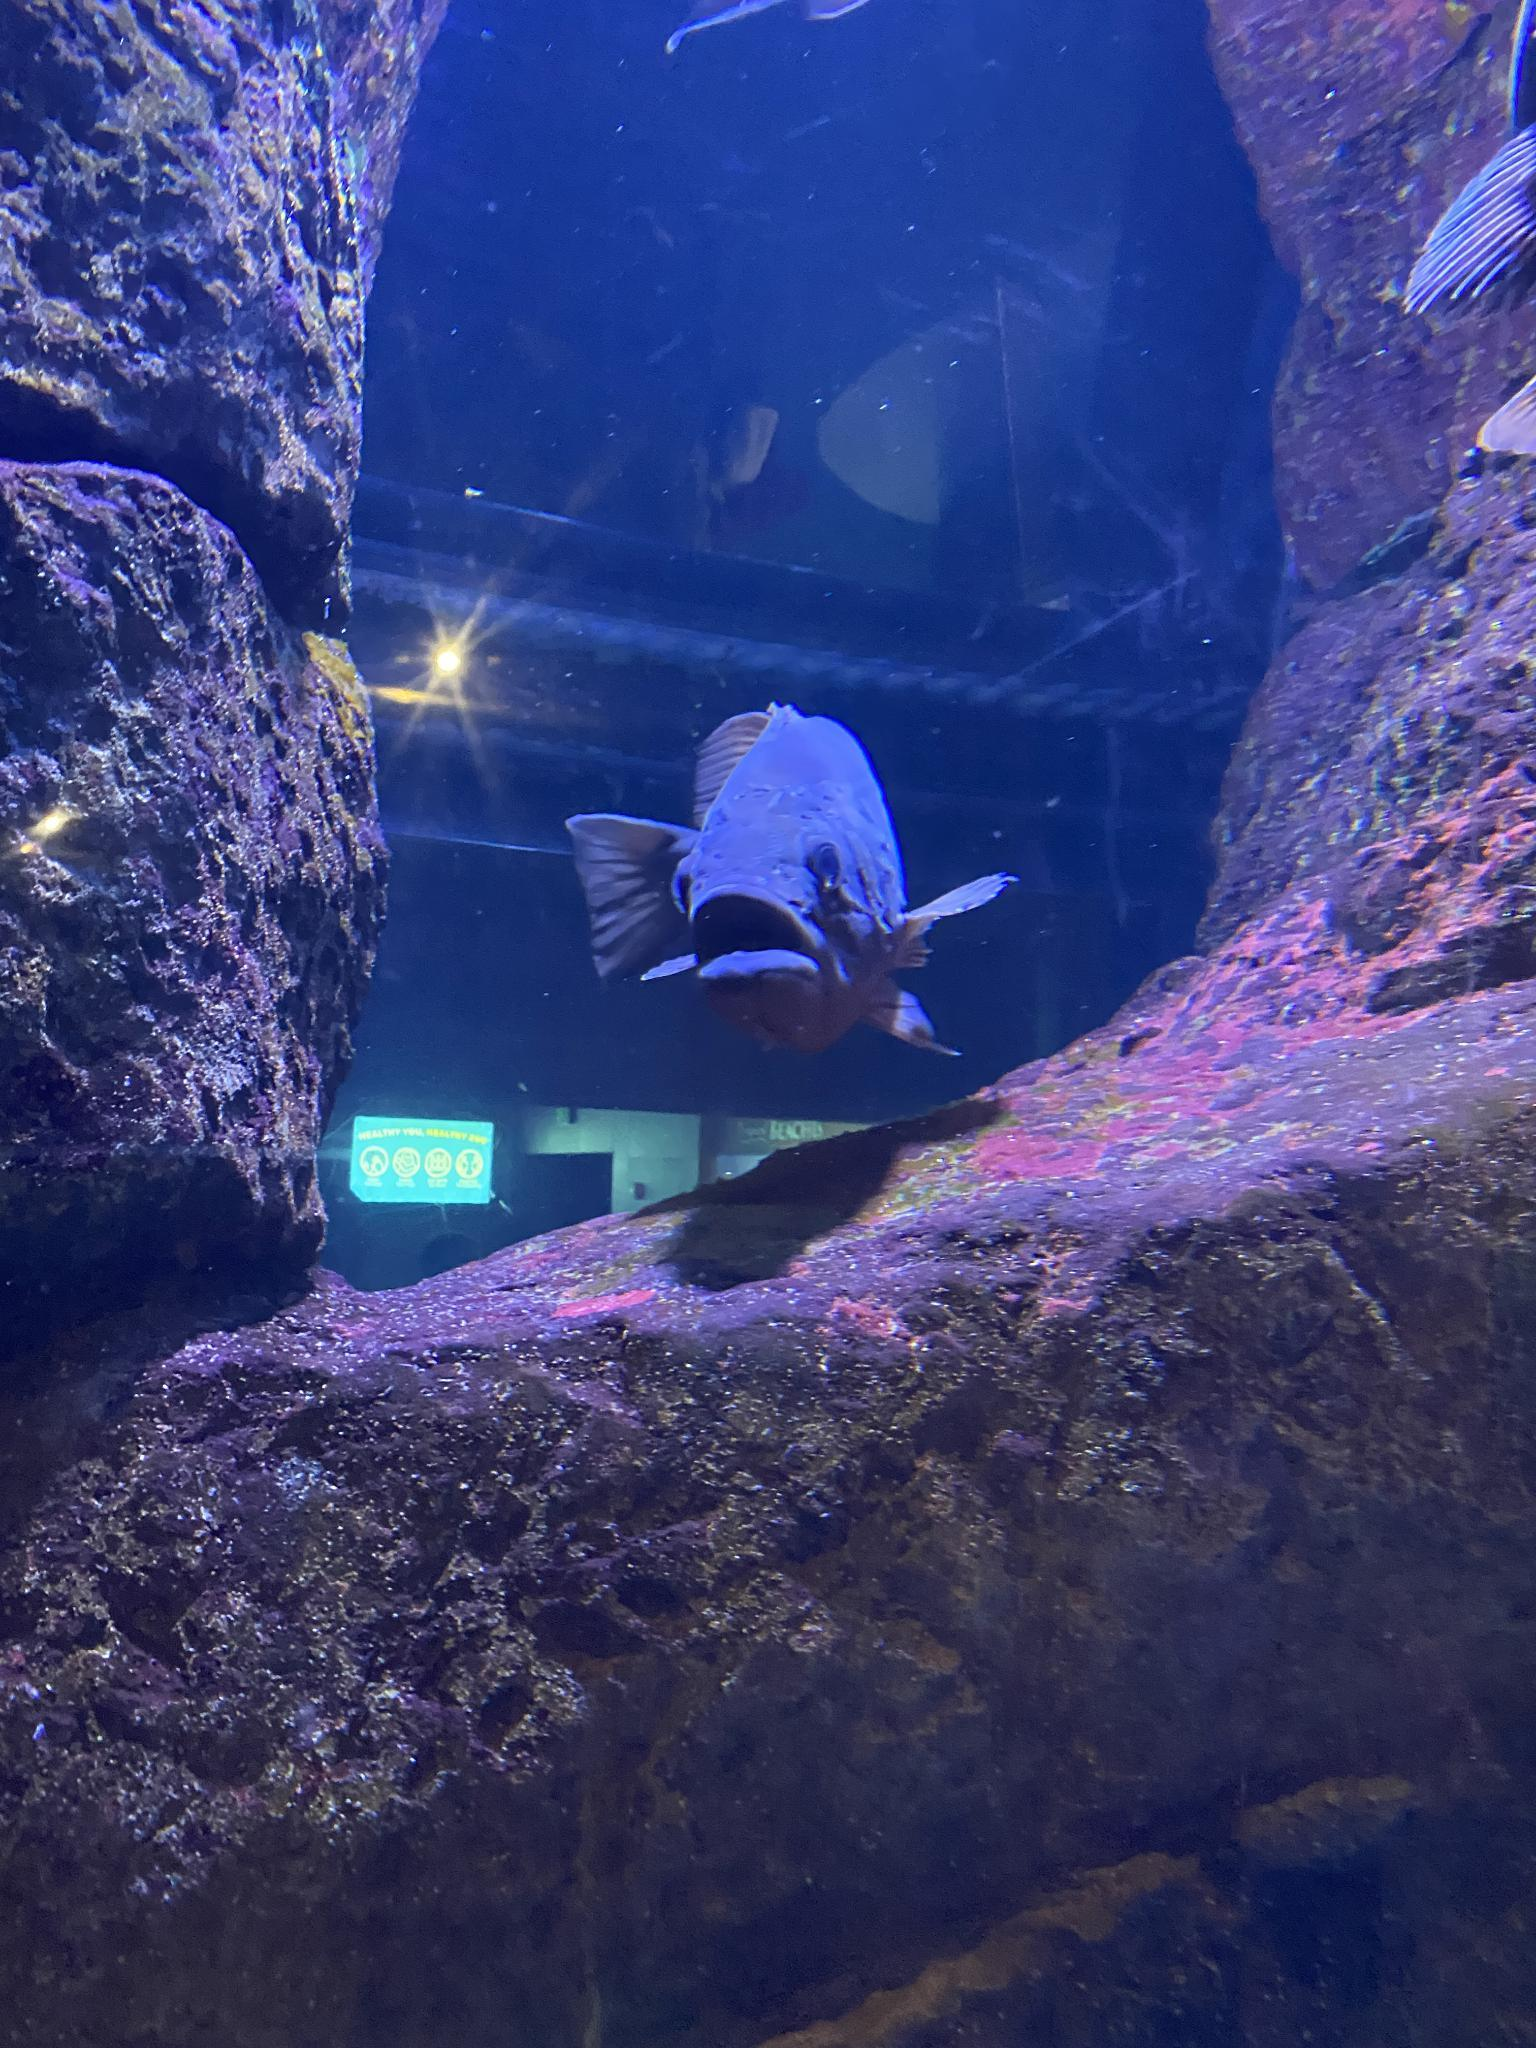fish: (561, 701, 1018, 1061)
